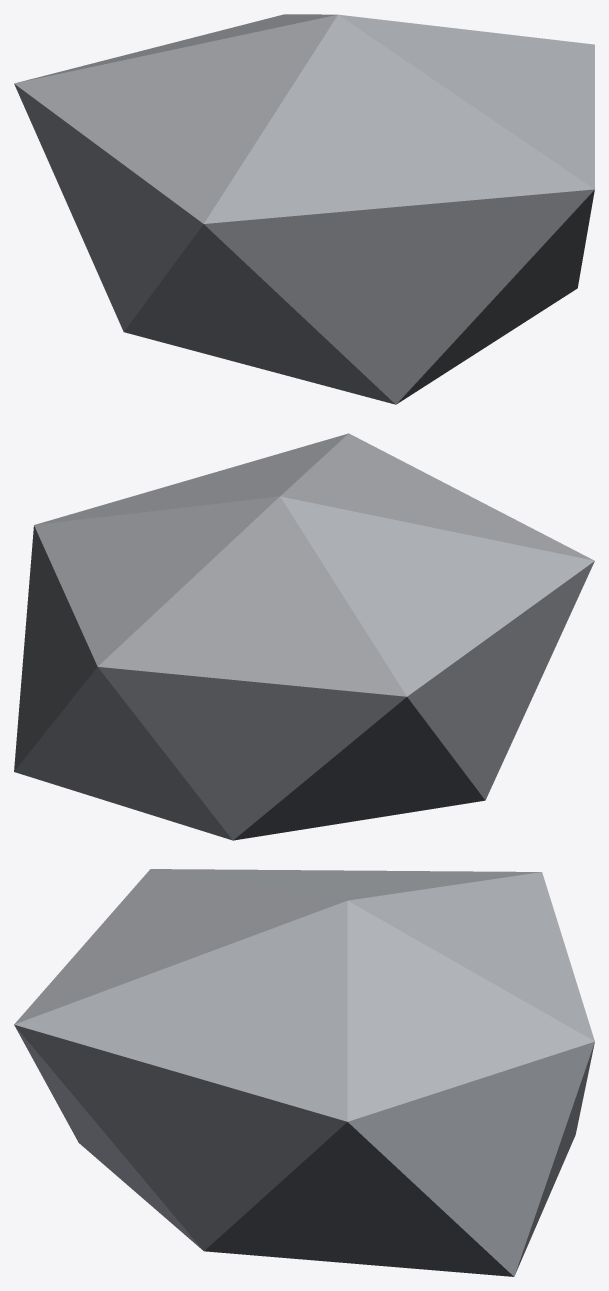
The model's file is Rock_Small_A.fbx.
3 views of the same model, one above another, from view 1: azimuth 30°, elevation 25°; view 2: azimuth 150°, elevation 25°; view 3: azimuth 270°, elevation 25° (orthographic). The views are drawn at different scales.
Visible parts, largest first — view 1: Rock_Small_A; view 2: Rock_Small_A; view 3: Rock_Small_A.
Boxes of the visible parts, <box> form: Rock_Small_A: <box>14,14,594,404</box>; Rock_Small_A: <box>14,433,594,840</box>; Rock_Small_A: <box>14,869,594,1276</box>.
Bounding box in the file's own units: 0.553 × 0.3252 × 0.5612.
1 material, 1 textured.
